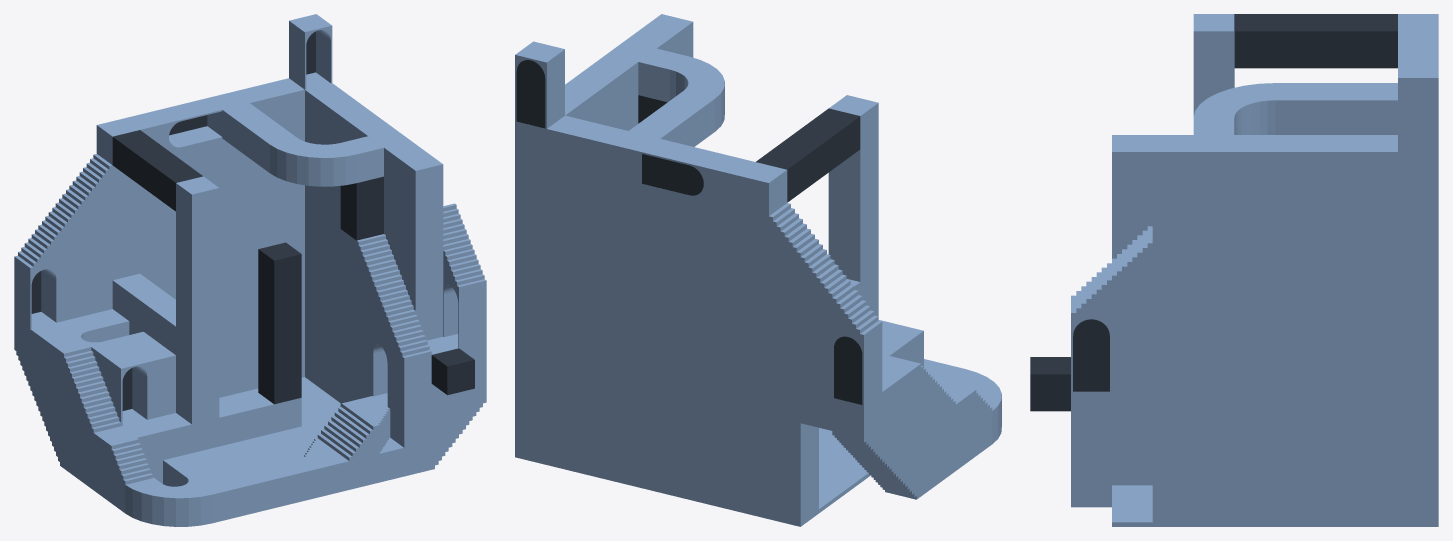
3 views of the same model, side by side, from view 1: azimuth 30°, elevation 25°; view 2: azimuth 150°, elevation 25°; view 3: azimuth 270°, elevation 25° (orthographic). The views are drawn at different scales.
Visible parts, largest first — view 1: Corpus, Twist_1, Twist_0, Door_5, Cube_rot_y_-90, Door_7, Door_6, Door_0, Door_3, Cube_tra_x_-2, Cube_rot_y_90, Door_1 (+2 smaller); view 2: Corpus, Twist_0, Door_7, Cube_360, Cube_034, Cube_104, Door_0, Door_3, Door_6; view 3: Corpus, Twist_0, Door_7, Cube_135, Cube_tra_x_-2, Door_5, Door_3.
Boxes of the visible parts, x1,y1,x2,y2 form: Corpus: (14,72,486,526); Twist_1: (258,278,301,404); Twist_0: (112,130,202,211); Door_5: (443,279,486,347); Cube_rot_y_-90: (340,176,383,240); Door_7: (289,14,332,89); Door_6: (105,350,148,426); Door_0: (14,260,57,328); Door_3: (152,98,222,151); Cube_tra_x_-2: (431,348,474,395); Cube_rot_y_90: (258,242,301,289); Door_1: (372,338,388,406); Corpus: (515,14,1001,526); Twist_0: (756,108,860,202); Door_7: (515,41,564,128); Cube_360: (516,60,545,128); Cube_034: (834,336,862,404); Cube_104: (642,154,703,195); Door_0: (832,326,882,405); Door_3: (642,139,723,200); Door_6: (882,323,923,367); Corpus: (1071,14,1438,526); Twist_0: (1234,14,1397,68); Door_7: (1398,60,1438,151); Cube_135: (1073,319,1109,391); Cube_tra_x_-2: (1030,357,1070,411); Door_5: (1071,317,1111,391); Door_3: (1398,48,1438,60).
Bounding box in the file's own units: 24 × 20 × 24.25.
